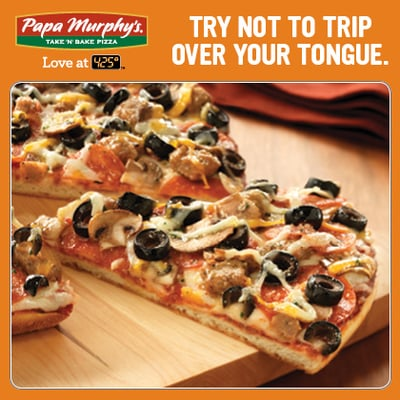curry: (4, 83, 390, 384)
sandwich: (7, 85, 385, 377), (12, 218, 75, 335)
